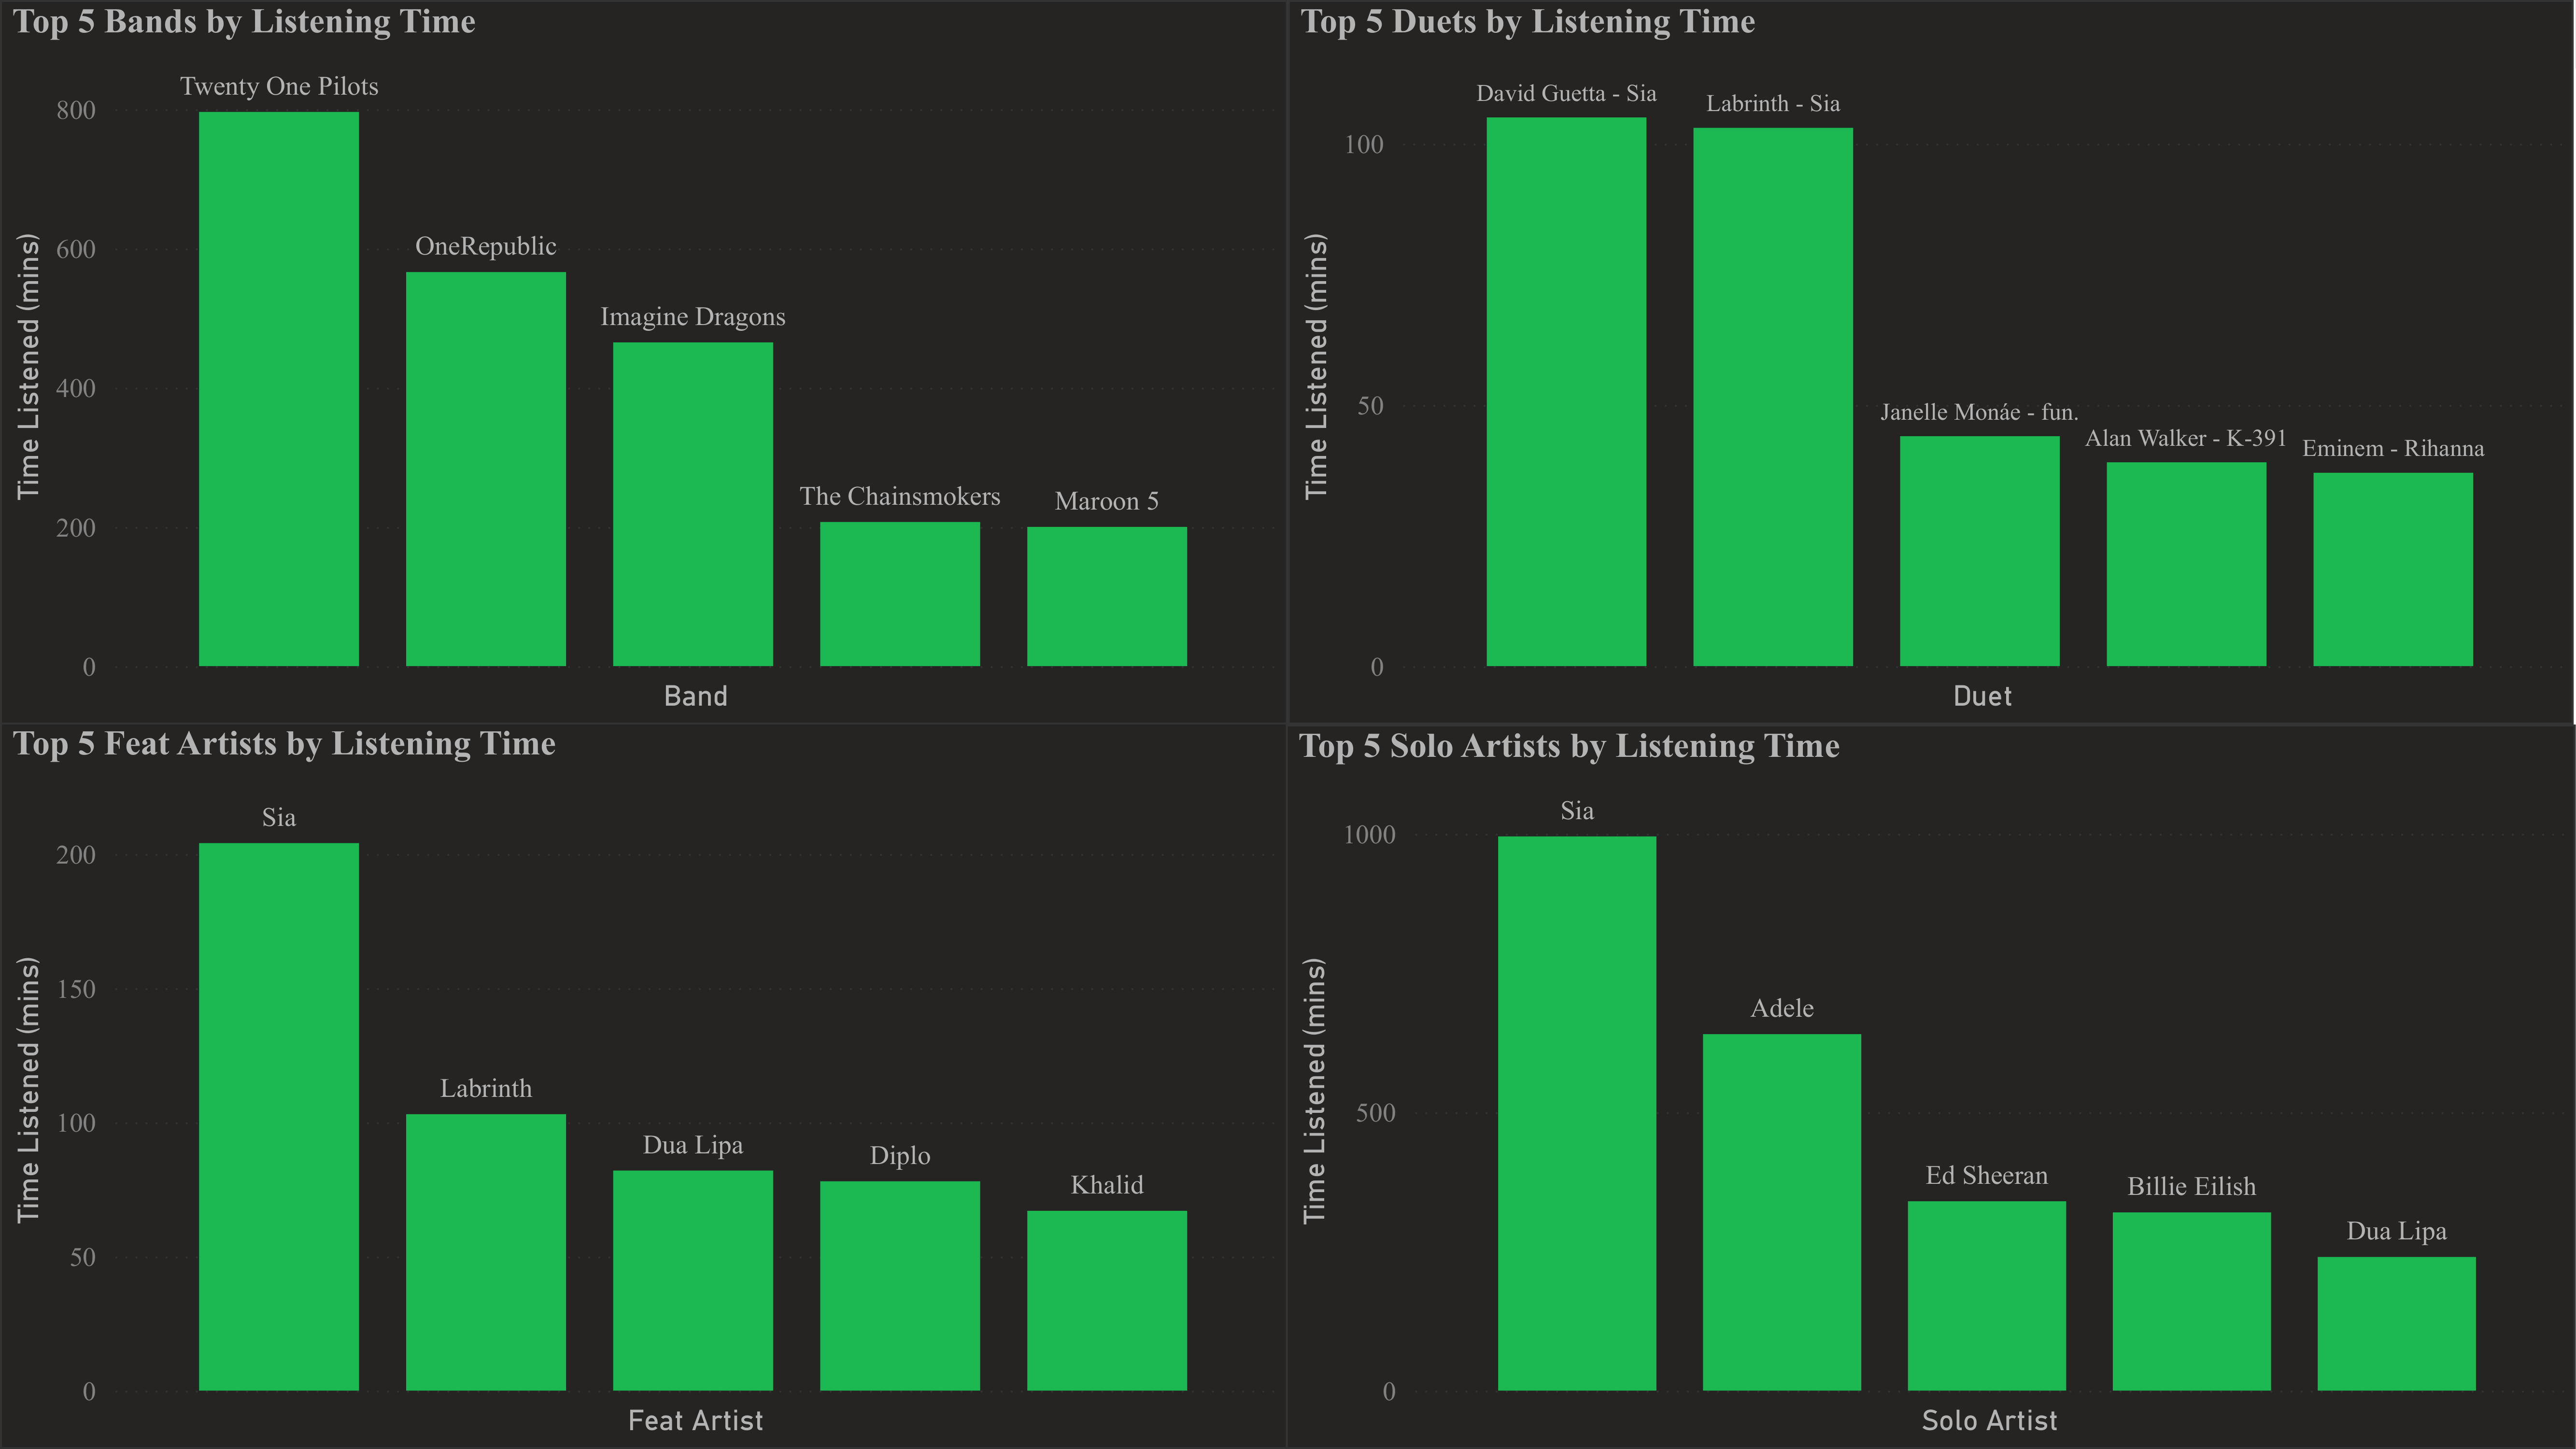

The page's visual inventory and layout, read from the dashboard file:
{"tool":"powerbi","page":{"name":"Artist Types","canvas":[1280,720],"ordinal":2},"visuals":[{"type":"columnChart","title":"Top 5 Feat Artists by Listening Time","fields":{"Category":["Feat Artists.Feat Artist"],"Y":["Sum(Feat Artists.time_listened)"]},"box":[0,359.3,639.5,360.5],"z":0},{"type":"columnChart","title":"Top 5 Duets by Listening Time","fields":{"Category":["Artist Combination.Duets"],"Y":["Sum(Artist Combination.time_listened)"]},"box":[639.8,0,638.7,359.5],"z":1000},{"type":"columnChart","title":"Top 5 Bands by Listening Time","fields":{"Category":["Artists.Artist"],"Y":["Sum(Artists.time_listened)"]},"box":[0,0,639.8,359.5],"z":2000},{"type":"columnChart","title":"Top 5 Solo Artists by Listening Time","fields":{"Category":["Solo Artists.Solo Artist"],"Y":["Sum(Solo Artists.time_listened)"]},"box":[639.5,359.5,640.8,360.9],"z":3000}]}

Visuals, with their boxes in screenshot pixels (x1, y1, x2, y2), scaled from the page's 1280x720 canvas onto the 2576x1449 screenshot:
"Top 5 Feat Artists by Listening Time" columnChart: (0,723,1287,1449)
"Top 5 Duets by Listening Time" columnChart: (1288,0,2573,724)
"Top 5 Bands by Listening Time" columnChart: (0,0,1288,724)
"Top 5 Solo Artists by Listening Time" columnChart: (1287,724,2576,1449)
